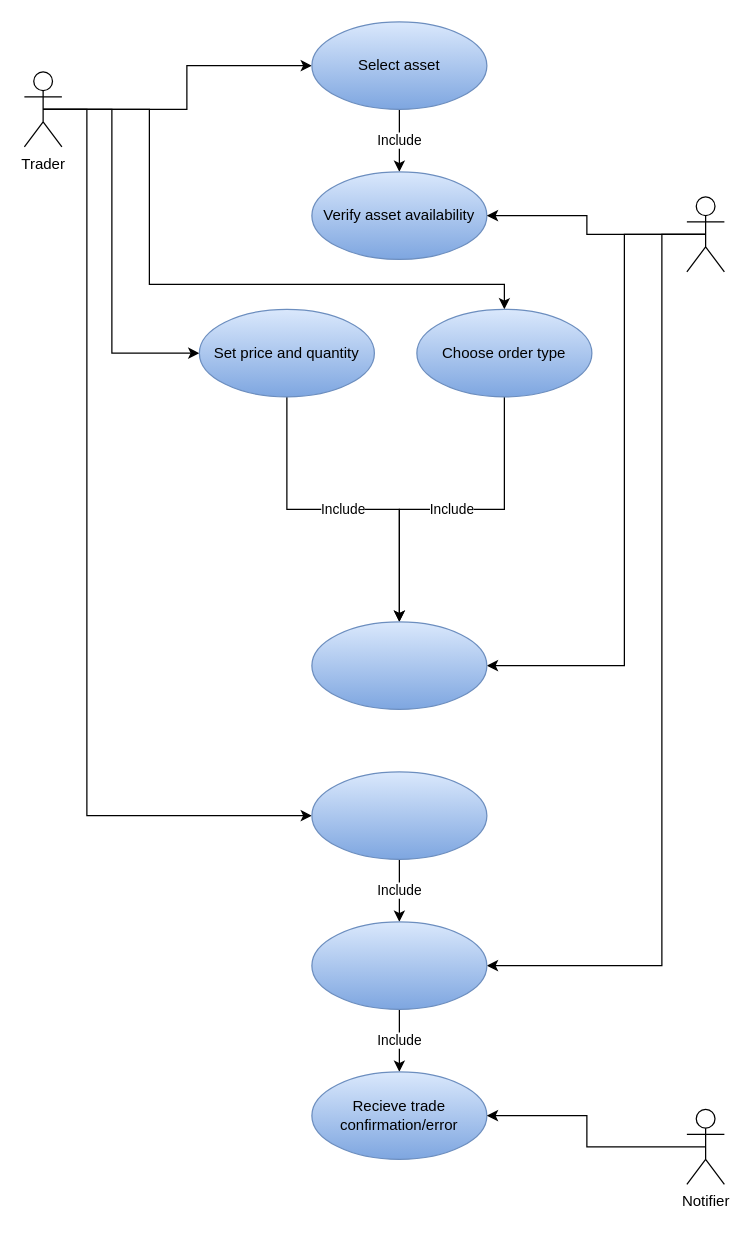
This 753x1233 diagram has some shape labels left out. The box of each missing label's shape, as (x1, y1, x2, y2) in pixels:
Check order limits: (311, 621, 487, 709)
Confirm trade submission: (311, 921, 487, 1009)
Submit trade: (311, 771, 487, 859)
System: (686, 196, 724, 272)
